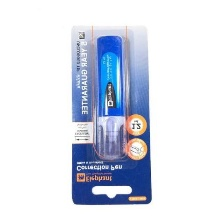book: (69, 20, 151, 207)
correction_fluid: (89, 32, 129, 162)
